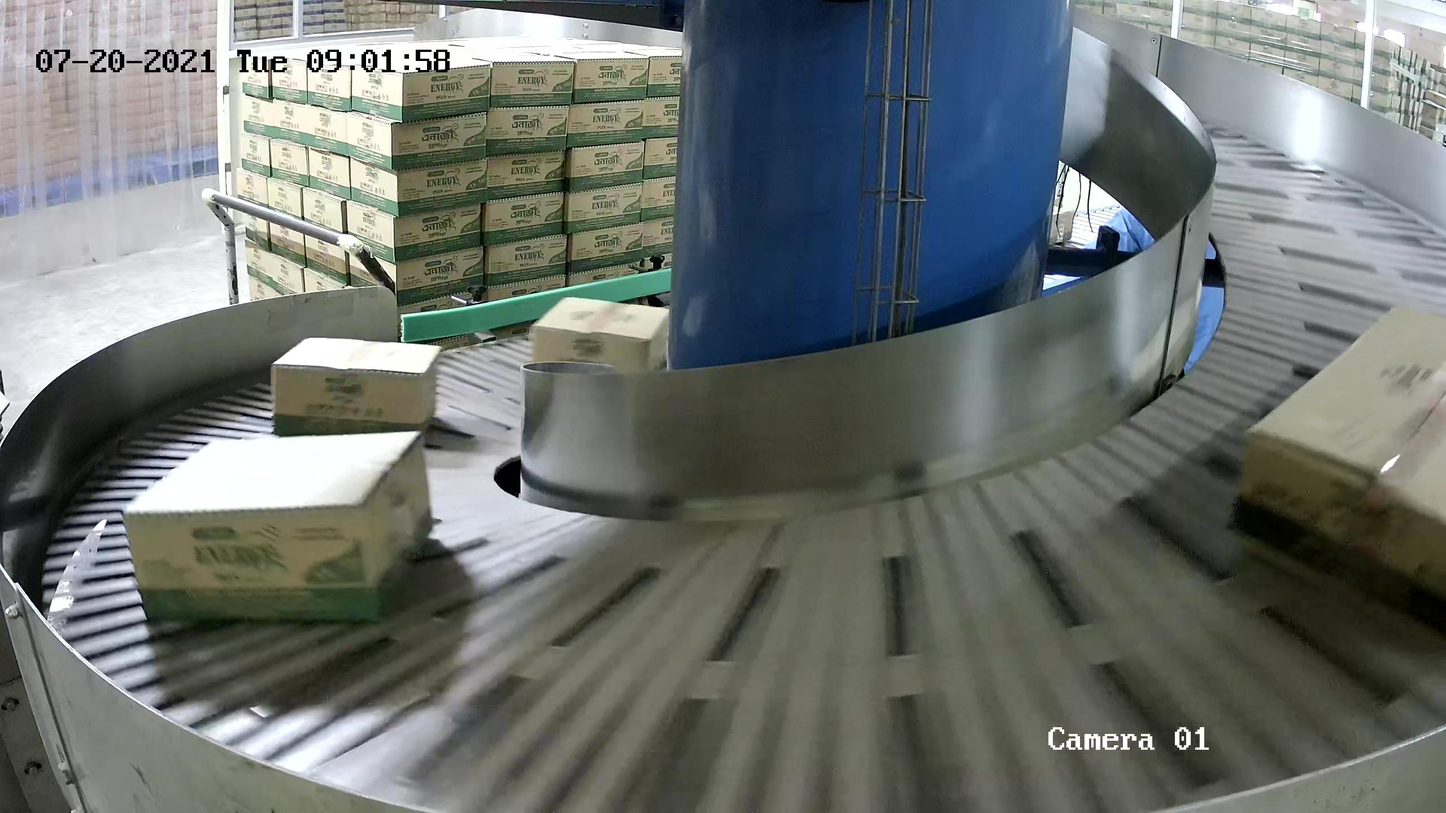Box: (1227, 301, 1446, 640), (120, 428, 436, 621), (266, 336, 442, 447), (531, 295, 673, 392)
